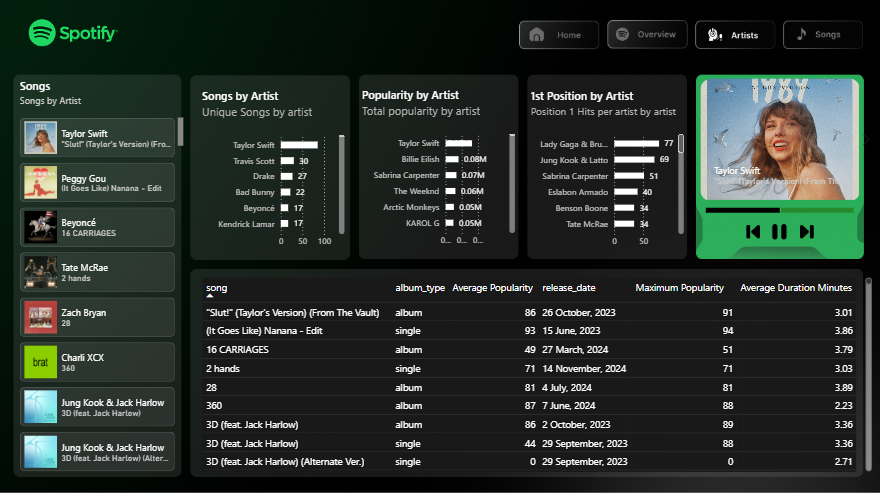

This screenshot's page, from the dashboard's own definition file:
{"tool":"powerbi","page":{"name":"artist","canvas":[1920,1080],"ordinal":2},"visuals":[{"type":"actionButton","box":[1086,213.7,110,38.3],"z":0},{"type":"actionButton","box":[1211,213.7,110,38.3],"z":1000},{"type":"actionButton","box":[1337.7,213.7,110,38.3],"z":2000},{"type":"actionButton","box":[1464.3,213.7,110,38.3],"z":3000},{"type":"image","box":[1474.9,507.3,35,22],"z":7000},{"type":"image","box":[1396.8,507.3,35,22],"z":8000},{"type":"image","box":[1435.8,507.3,35,22],"z":9000},{"type":"hundredPercentStackedBarChart","fields":{"Y":["_Measures.Average Popularity","Avg(Top 50 World.popularity)"]},"box":[1330,443.3,246.1,81.4],"z":10000},{"type":"advancedSlicerVisual","title":"Songs ","fields":{"Values":["Top 50 World.song"]},"box":[1316.7,295,271.7,178.3],"z":11000},{"type":"shape","box":[1330,271.7,249.7,287.7],"z":12000},{"type":"advancedSlicerVisual","title":"Songs ","fields":{"Values":["Top 50 World.song"]},"box":[352.9,295,237.1,571.9],"z":13000},{"type":"tableEx","fields":{"Values":["Top 50 World.song","Top 50 World.album_type","_Measures.Average Popularity","Top 50 World.release_date","_Measures.Maximum Popularity","_Measures.Average Duration Minutes"]},"box":[601.7,570,1001.7,310],"z":14000},{"type":"clusteredBarChart","title":"Songs by Artist","fields":{"Category":["Top 50 World.artist"],"Y":["_Measures.Unique Songs"]},"box":[601.7,295,238.2,266.4],"z":14001},{"type":"clusteredBarChart","title":"Popularity by Artist","fields":{"Category":["Top 50 World.artist"],"Y":["Sum(Top 50 World.popularity)"]},"box":[833.3,293.3,253.3,266.7],"z":14002},{"type":"clusteredBarChart","title":"1st Position by Artist","fields":{"Category":["Top 50 World.artist"],"Y":["_Measures.Number 1 Entries"]},"box":[1076.7,295,253.6,266.4],"z":14003}]}

Visuals, with their boxes in screenshot pixels (x1, y1, x2, y2), scaled from the page's 1920x1080 canvas onto the 880x493 screenshot:
actionButton: <bbox>498, 98, 548, 115</bbox>
actionButton: <bbox>555, 98, 605, 115</bbox>
actionButton: <bbox>613, 98, 664, 115</bbox>
actionButton: <bbox>671, 98, 722, 115</bbox>
image: <bbox>676, 232, 692, 242</bbox>
image: <bbox>640, 232, 656, 242</bbox>
image: <bbox>658, 232, 674, 242</bbox>
hundredPercentStackedBarChart - _Measures.Average Popularity x Avg(Top 50 World.popularity): <bbox>610, 202, 722, 240</bbox>
"Songs " advancedSlicerVisual: <bbox>603, 135, 728, 216</bbox>
shape: <bbox>610, 124, 724, 255</bbox>
"Songs " advancedSlicerVisual: <bbox>162, 135, 270, 396</bbox>
tableEx - Top 50 World.song x Top 50 World.album_type: <bbox>276, 260, 735, 402</bbox>
"Songs by Artist" clusteredBarChart: <bbox>276, 135, 385, 256</bbox>
"Popularity by Artist" clusteredBarChart: <bbox>382, 134, 498, 256</bbox>
"1st Position by Artist" clusteredBarChart: <bbox>493, 135, 610, 256</bbox>
